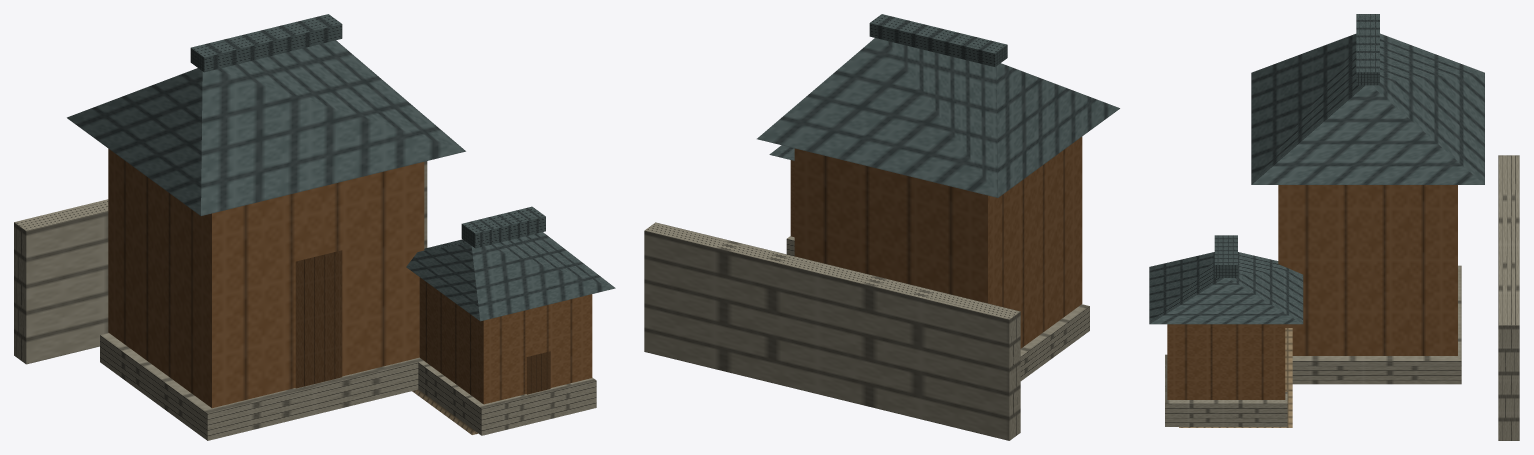
The model's file is domestic-BARRACKS-3-lod2.glb.
3 renders of one model, left to right at view 1: azimuth 30°, elevation 25°; view 2: azimuth 150°, elevation 25°; view 3: azimuth 270°, elevation 25°, orthographic. The views are drawn at different scales.
Size of the model in its own units: 0.85 by 0.695 by 0.7825.
Materials: 1 (1 with a texture image).
